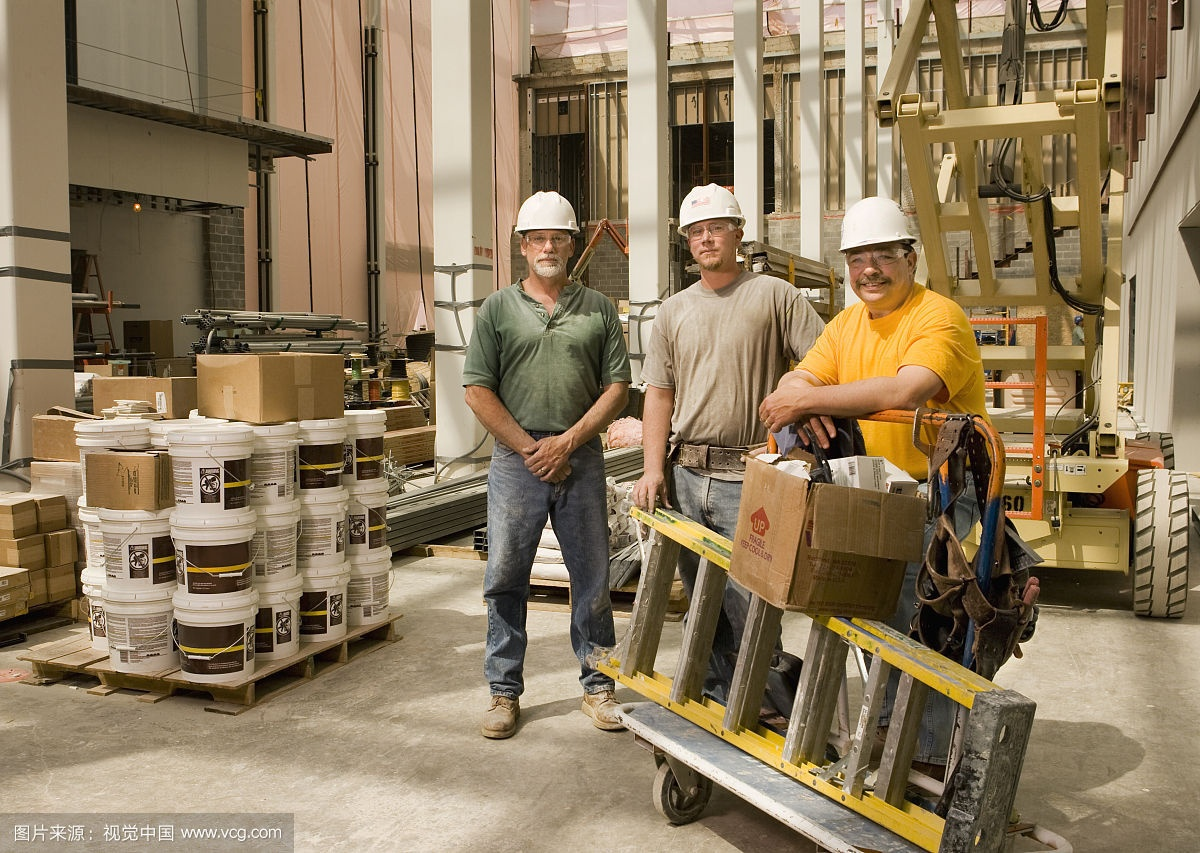white: (833, 197, 924, 308), (506, 190, 590, 283), (672, 183, 753, 273)
